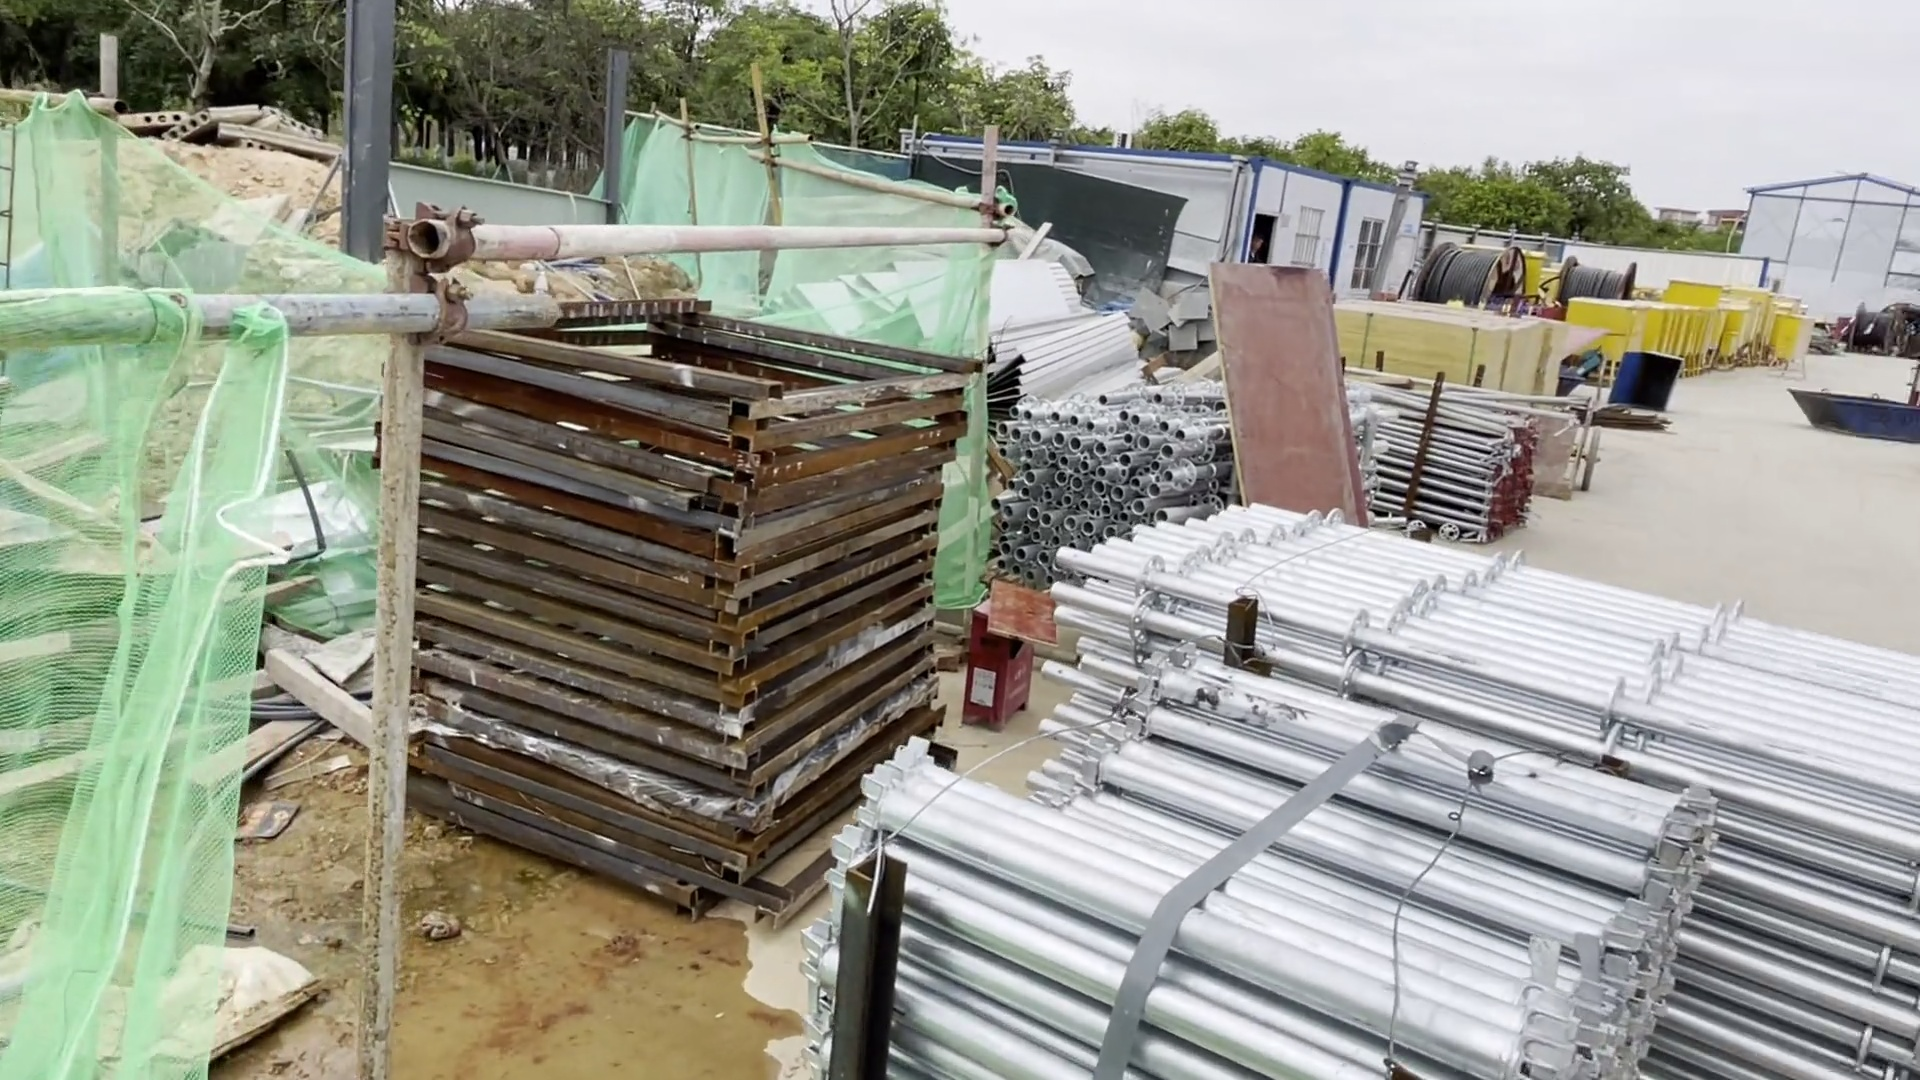ebox: (1565, 297, 1623, 364), (1772, 313, 1815, 378), (1622, 301, 1665, 353), (1665, 272, 1725, 305), (1523, 248, 1547, 301)
scaffold: (1073, 489, 1912, 1080), (822, 684, 1691, 1080), (993, 375, 1232, 539), (1353, 407, 1528, 516)
